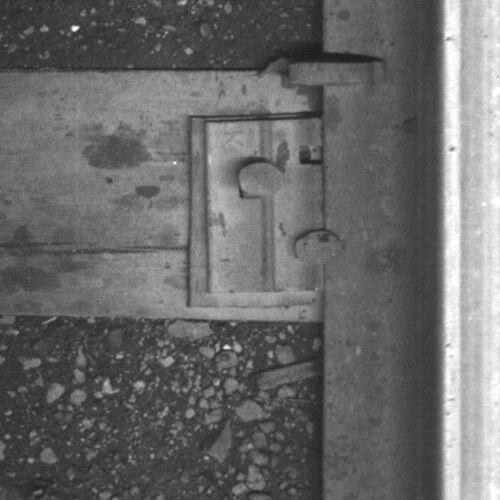crutch: (287, 58, 389, 85)
do: (204, 117, 345, 292)
rail: (439, 1, 500, 500)
tie_wood: (1, 71, 321, 321)
wood_crack: (1, 235, 187, 258)
